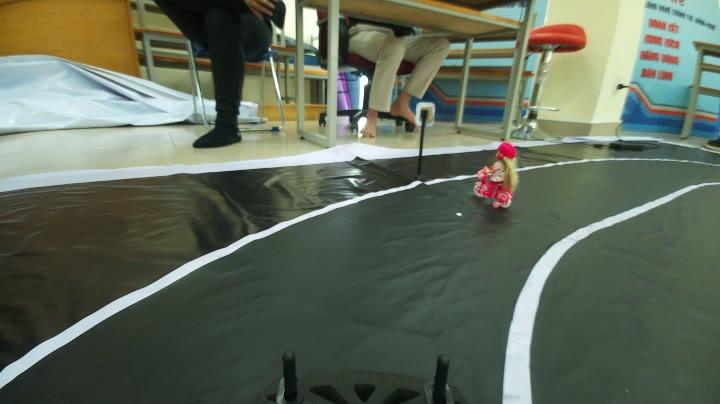pedestrian: (472, 136, 530, 212)
